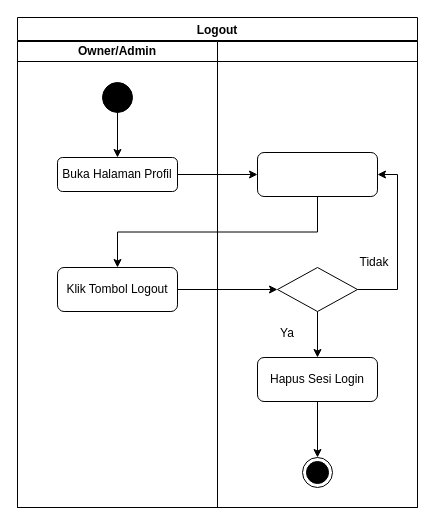
This 435x525 diagram has some shape labels left out. Here are the shapes that lost their labels. From the top down, the box of each, then its label:
(256, 152, 378, 196): Menampilkan Halaman Profil
(216, 40, 418, 508): Sistem
(276, 266, 358, 312): Validasi
